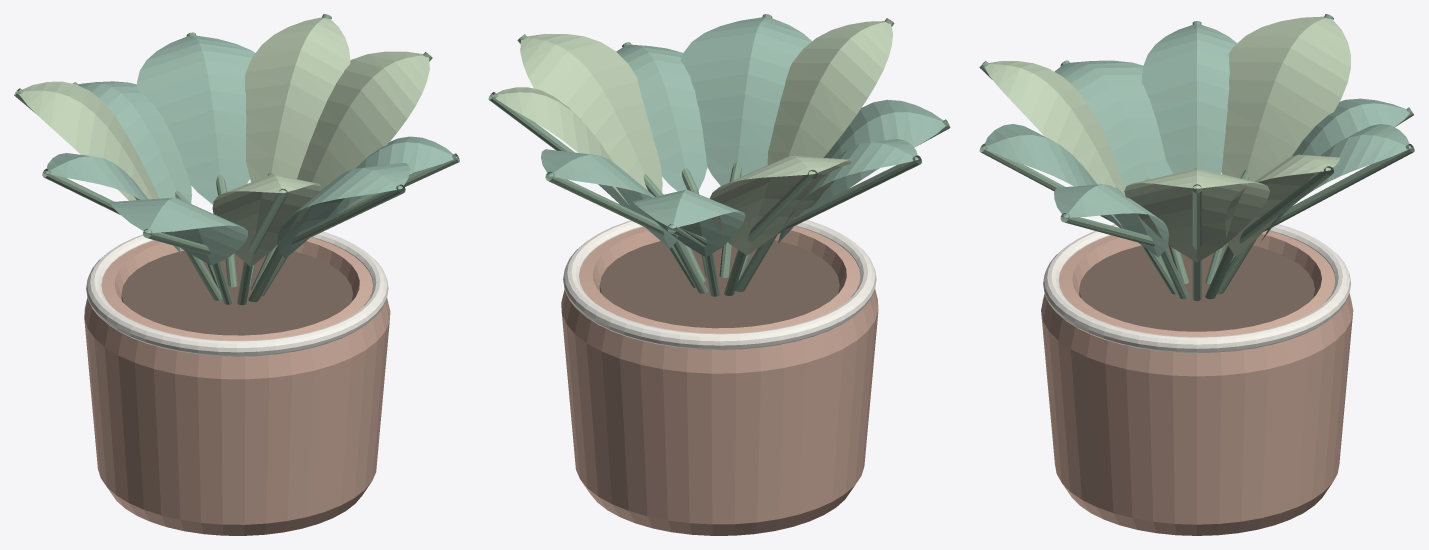
File: plant.glb
3 renders of one model, left to right at view 1: azimuth 30°, elevation 25°; view 2: azimuth 150°, elevation 25°; view 3: azimuth 270°, elevation 25°, orthographic. The views are drawn at different scales.
Visible parts, largest first — view 1: ceramic_planter_0, green_bright_4, green_5, wood_edge_1, ivory_2, green_dark_3; view 2: ceramic_planter_0, green_5, green_bright_4, wood_edge_1, green_dark_3, ivory_2; view 3: ceramic_planter_0, green_bright_4, green_5, wood_edge_1, green_dark_3, ivory_2.
Boxes of the visible parts, x1,y1,x2,y2 form: ceramic_planter_0: (84, 237, 390, 535); green_bright_4: (17, 17, 429, 266); green_5: (45, 35, 457, 265); wood_edge_1: (121, 250, 352, 335); ivory_2: (86, 231, 388, 356); green_dark_3: (14, 14, 459, 305); ceramic_planter_0: (561, 226, 878, 535); green_5: (541, 17, 947, 257); green_bright_4: (492, 21, 892, 255); wood_edge_1: (599, 240, 839, 328); green_dark_3: (488, 14, 950, 296); ivory_2: (563, 220, 876, 349); ceramic_planter_0: (1041, 230, 1353, 535); green_bright_4: (984, 16, 1350, 262); green_5: (983, 24, 1411, 257); wood_edge_1: (1079, 243, 1314, 331); green_dark_3: (979, 14, 1414, 300); ivory_2: (1043, 224, 1351, 352).
Bounding box in the file's own units: 1.32 × 1.24 × 1.25.
